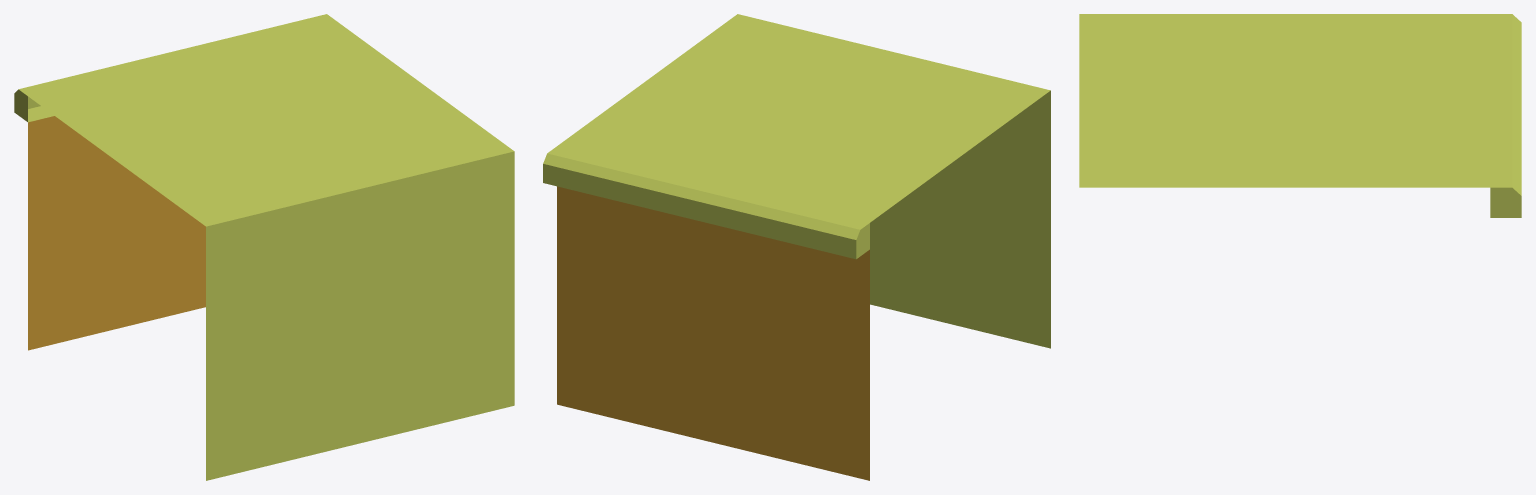
The model's file is Cntr-Basic.fbx.
The picture shows the model from 3 angles, left to right: view 1: azimuth 30°, elevation 25°; view 2: azimuth 150°, elevation 25°; view 3: azimuth 270°, elevation 25°; orthographic projection. The views are drawn at different scales.
Visible parts, largest first — view 1: Cntr-Basic; view 2: Cntr-Basic; view 3: Cntr-Basic.
Part boxes in pixels (bbox=[...]): Cntr-Basic: bbox=[14, 14, 514, 480]; Cntr-Basic: bbox=[543, 14, 1050, 480]; Cntr-Basic: bbox=[1079, 14, 1521, 217].
Size of the model in its own units: 2026 by 2180 by 1596.
